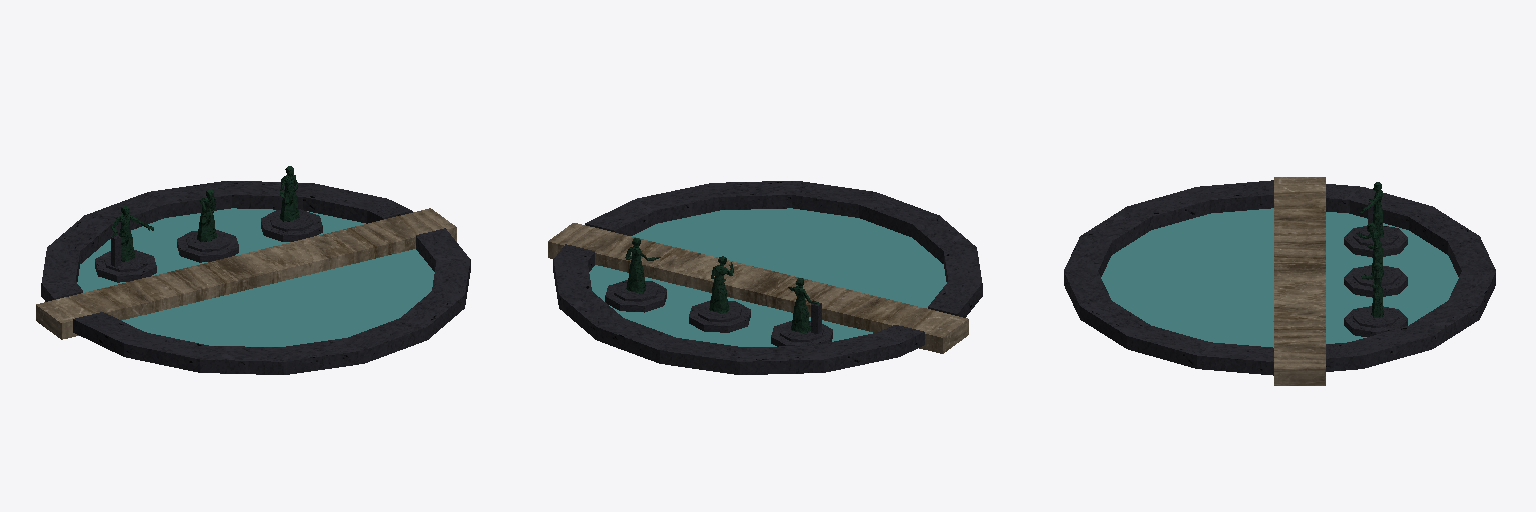
The picture shows the model from 3 angles: view 1: azimuth 30°, elevation 25°; view 2: azimuth 150°, elevation 25°; view 3: azimuth 270°, elevation 25°; orthographic projection.
Parts seen in each view (by area): view 1: Circle_Circle.002, Character_Traveller_Female_01.001_Mesh.006, Character_Traveller_Female_01_Mesh.005, Character_Traveller_Female_01.002_Mesh.007; view 2: Circle_Circle.002, Character_Traveller_Female_01.002_Mesh.007, Character_Traveller_Female_01.001_Mesh.006, Character_Traveller_Female_01_Mesh.005; view 3: Circle_Circle.002, Character_Traveller_Female_01.001_Mesh.006.
Part boxes in pixels (x1,y1,x2,y2): Circle_Circle.002: (36,181,470,374); Character_Traveller_Female_01.001_Mesh.006: (280,166,299,221); Character_Traveller_Female_01_Mesh.005: (111,206,153,261); Character_Traveller_Female_01.002_Mesh.007: (197,189,216,241); Circle_Circle.002: (548,181,982,374); Character_Traveller_Female_01.002_Mesh.007: (709,256,733,313); Character_Traveller_Female_01.001_Mesh.006: (625,238,660,292); Character_Traveller_Female_01_Mesh.005: (788,278,819,332); Circle_Circle.002: (1064,177,1495,385); Character_Traveller_Female_01.001_Mesh.006: (1361,262,1383,317).
Size of the model in its own units: 14.15 by 2.28 by 13.42.
1 materials, 1 textured.